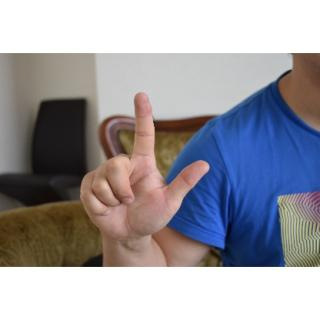LAAM: (78, 88, 215, 250)
